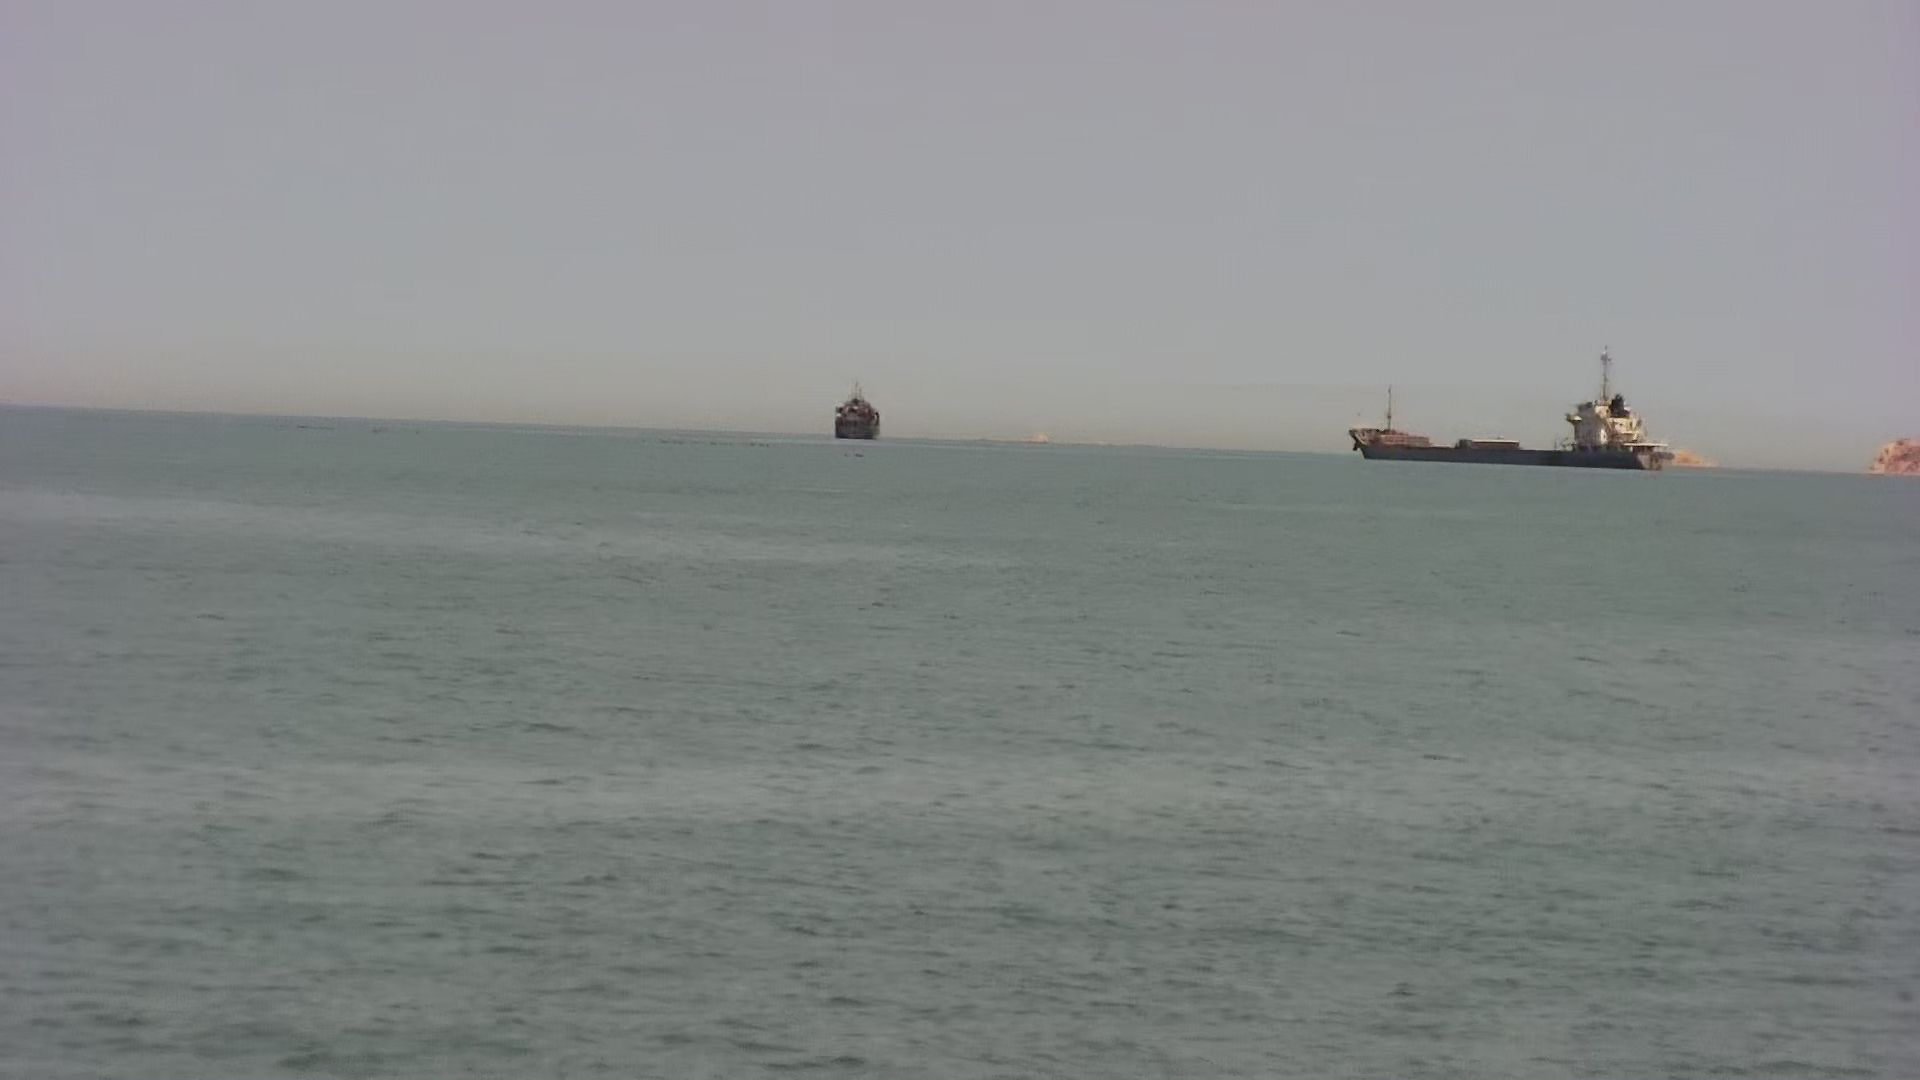ship: (1345, 372, 1677, 473), (829, 382, 882, 443)
